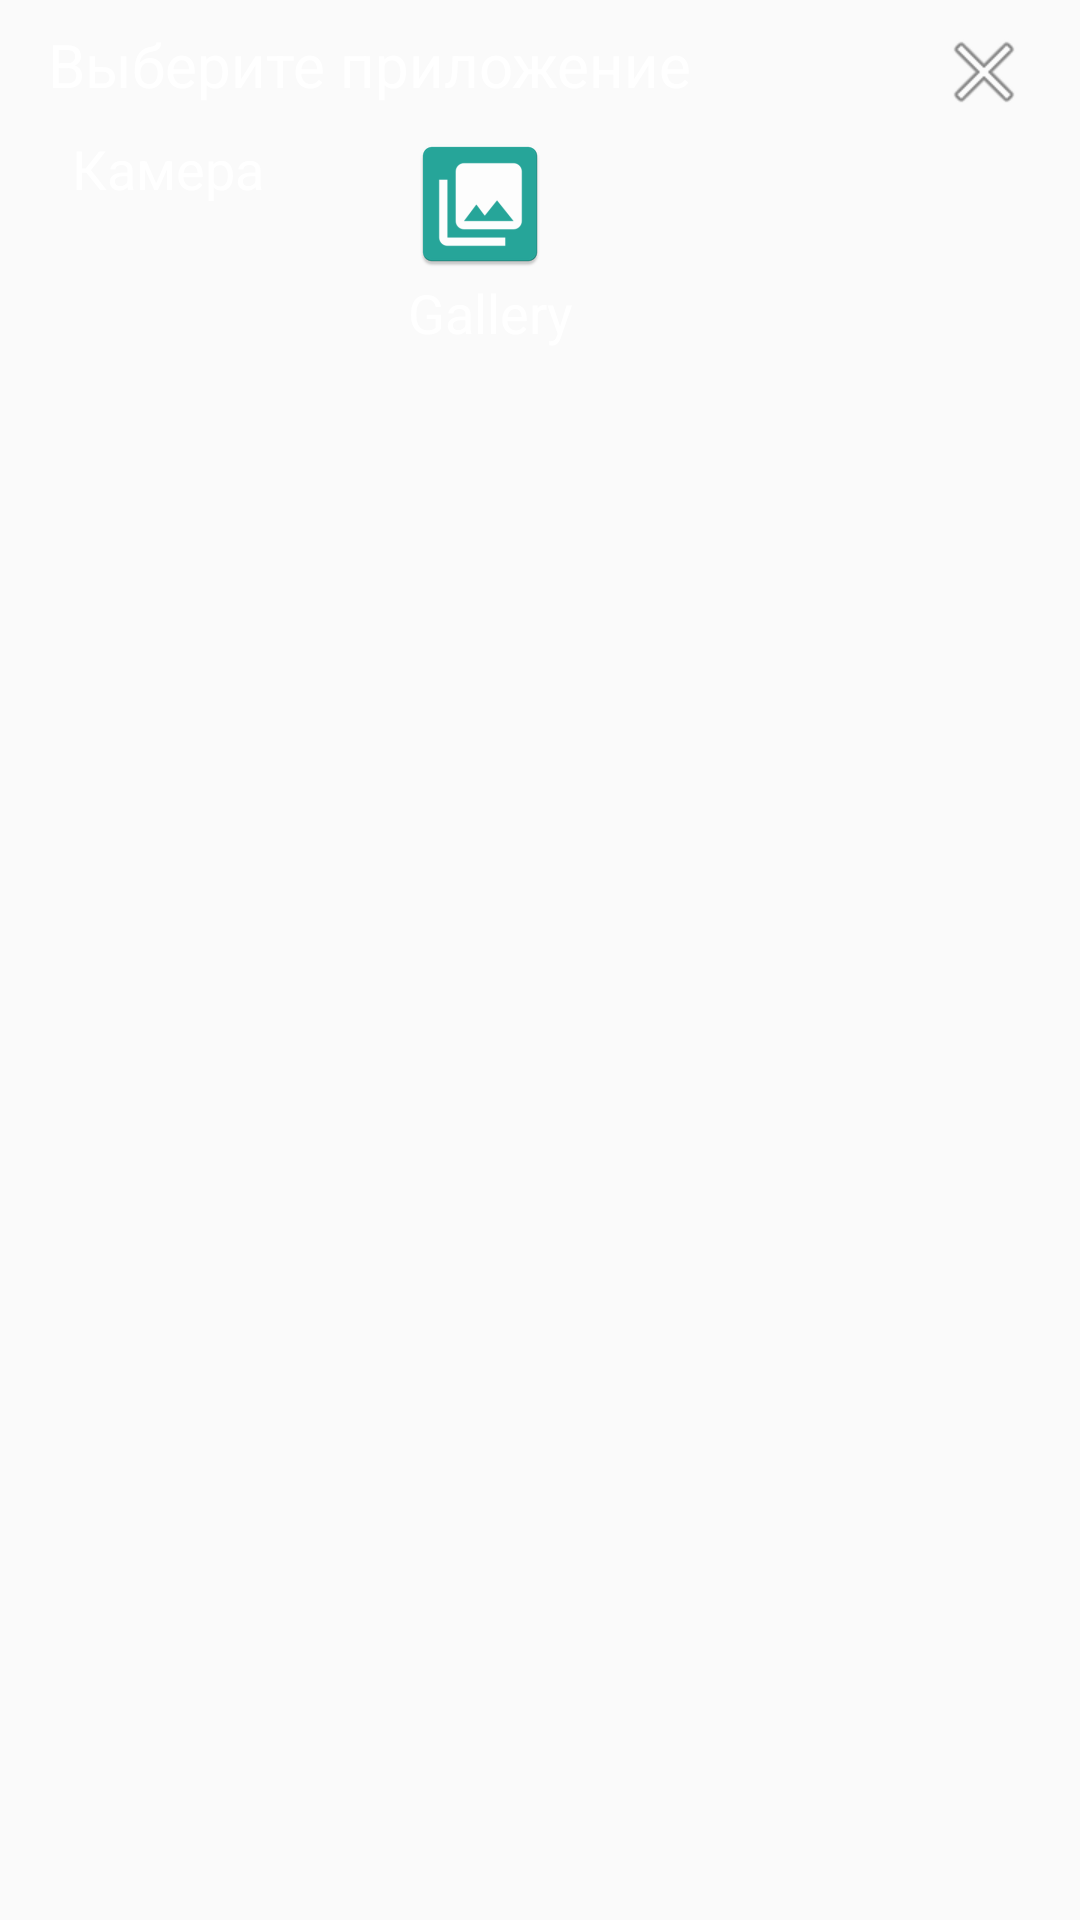

Icons on this 1080 × 1920 Android screen, each with its box as (x1, y1, x2, y2):
close clear cancel: (954, 42, 1014, 102)
